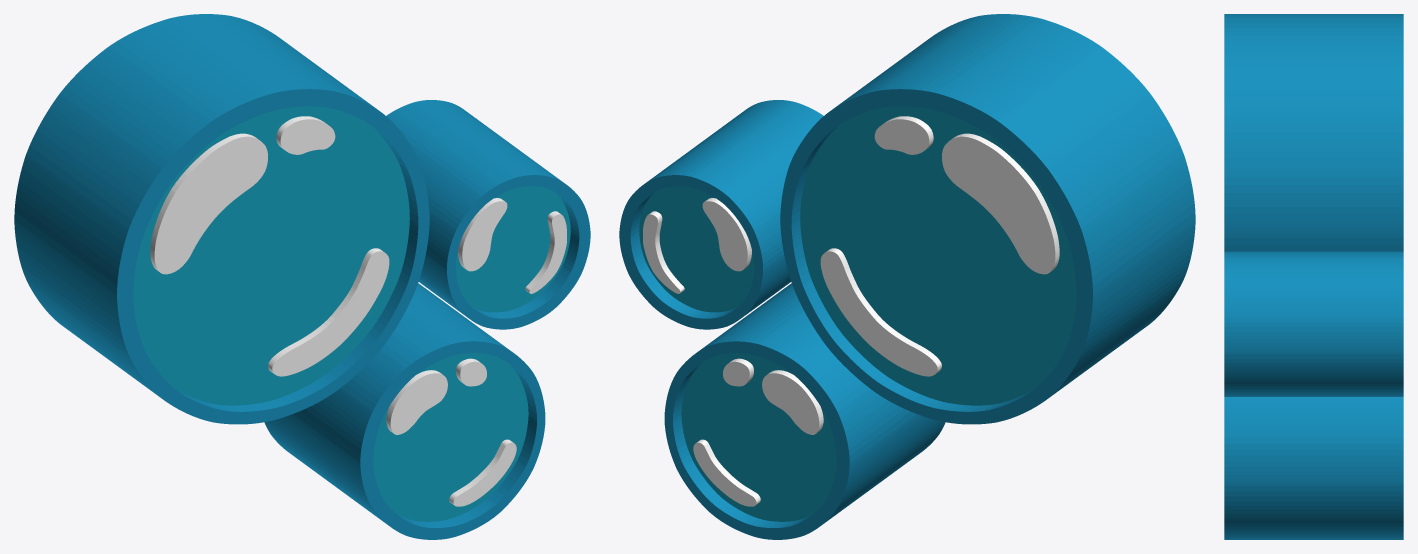
The model's file is U+1FAE7.obj.
3 views of the same model, side by side, from view 1: azimuth 30°, elevation 25°; view 2: azimuth 150°, elevation 25°; view 3: azimuth 270°, elevation 25° (orthographic). The views are drawn at different scales.
Visible parts, largest first — view 1: U+1FAE7_layer02_obj01, U+1FAE7_layer00_obj02, U+1FAE7_layer02_obj00, U+1FAE7_layer02_obj02, U+1FAE7_layer00_obj01, U+1FAE7_layer01_obj05, U+1FAE7_layer00_obj00, U+1FAE7_layer01_obj06, U+1FAE7_layer01_obj00, U+1FAE7_layer01_obj04, U+1FAE7_layer01_obj03, U+1FAE7_layer01_obj01 (+2 smaller); view 2: U+1FAE7_layer02_obj01, U+1FAE7_layer00_obj02, U+1FAE7_layer02_obj00, U+1FAE7_layer02_obj02, U+1FAE7_layer00_obj01, U+1FAE7_layer01_obj05, U+1FAE7_layer00_obj00, U+1FAE7_layer01_obj06, U+1FAE7_layer01_obj00, U+1FAE7_layer01_obj04, U+1FAE7_layer01_obj03, U+1FAE7_layer01_obj01 (+2 smaller); view 3: U+1FAE7_layer02_obj01, U+1FAE7_layer02_obj02, U+1FAE7_layer02_obj00.
Part boxes in pixels (x1,y1,x2,y2): U+1FAE7_layer02_obj01: (14, 14, 429, 424); U+1FAE7_layer00_obj02: (133, 106, 409, 405); U+1FAE7_layer02_obj00: (264, 283, 545, 539); U+1FAE7_layer02_obj02: (386, 100, 590, 329); U+1FAE7_layer00_obj01: (373, 353, 528, 521); U+1FAE7_layer01_obj05: (150, 133, 267, 274); U+1FAE7_layer00_obj00: (455, 186, 570, 312); U+1FAE7_layer01_obj06: (268, 248, 389, 376); U+1FAE7_layer01_obj00: (386, 370, 447, 434); U+1FAE7_layer01_obj04: (458, 198, 507, 271); U+1FAE7_layer01_obj03: (276, 116, 335, 154); U+1FAE7_layer01_obj01: (449, 439, 516, 506); U+1FAE7_layer02_obj01: (780, 14, 1195, 424); U+1FAE7_layer00_obj02: (800, 106, 1076, 405); U+1FAE7_layer02_obj00: (664, 283, 945, 539); U+1FAE7_layer02_obj02: (619, 100, 823, 329); U+1FAE7_layer00_obj01: (681, 353, 836, 521); U+1FAE7_layer01_obj05: (942, 133, 1059, 274); U+1FAE7_layer00_obj00: (639, 186, 754, 312); U+1FAE7_layer01_obj06: (820, 248, 941, 376); U+1FAE7_layer01_obj00: (762, 370, 823, 434); U+1FAE7_layer01_obj04: (702, 198, 751, 271); U+1FAE7_layer01_obj03: (874, 116, 933, 154); U+1FAE7_layer01_obj01: (693, 439, 760, 506); U+1FAE7_layer02_obj01: (1224, 14, 1403, 251); U+1FAE7_layer02_obj02: (1224, 251, 1403, 396); U+1FAE7_layer02_obj00: (1224, 397, 1403, 539).
Bounding box in the file's own units: 0.3198 × 0.3149 × 0.12.
